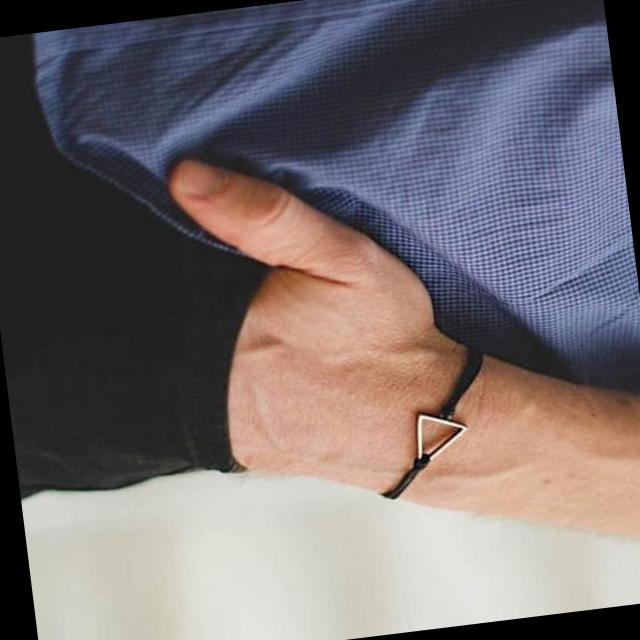Nail: (178, 157, 223, 207)
